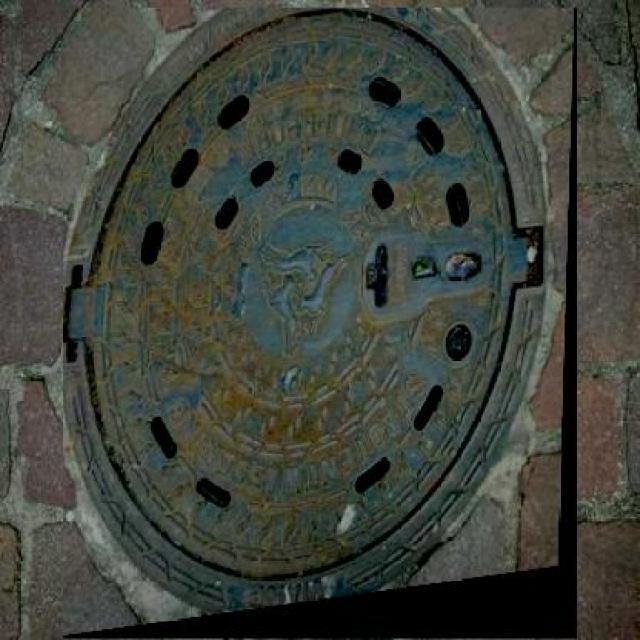Manhole: (64, 7, 578, 638)
